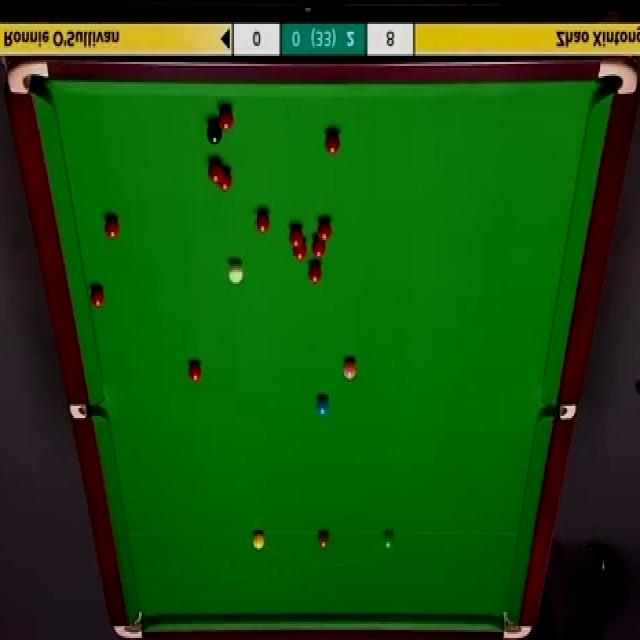black-ball: (206, 123, 223, 148)
blue-ball: (316, 393, 330, 417)
brown-ball: (317, 531, 330, 550)
green-ball: (381, 531, 394, 550)
pink-ball: (342, 356, 358, 378)
red-ball: (218, 102, 235, 133), (102, 216, 119, 242), (208, 160, 224, 184), (308, 261, 323, 285), (317, 219, 331, 244), (327, 129, 340, 155), (90, 285, 104, 309), (255, 212, 269, 236), (218, 169, 232, 192), (290, 225, 305, 246), (292, 241, 307, 262), (312, 237, 326, 259), (188, 362, 202, 380)
white-ball: (227, 259, 244, 286)
yellow-ball: (252, 531, 265, 550)
